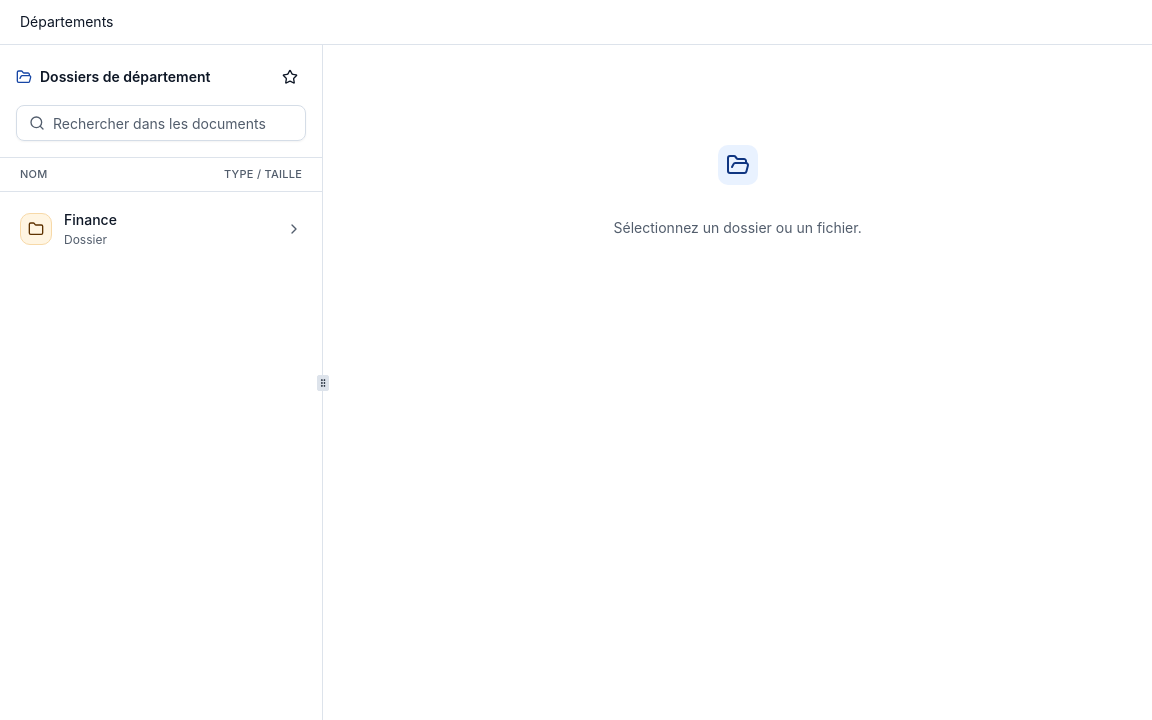
Test: FileWorkspace › navigue dans l'API, pagine et affiche les droits de l'élément sélectionné
This screenshot has width=1152, height=720.
Click the button with aria-label "Ouvrir le dossier Finance" at (36, 228), box [8,200,314,258]
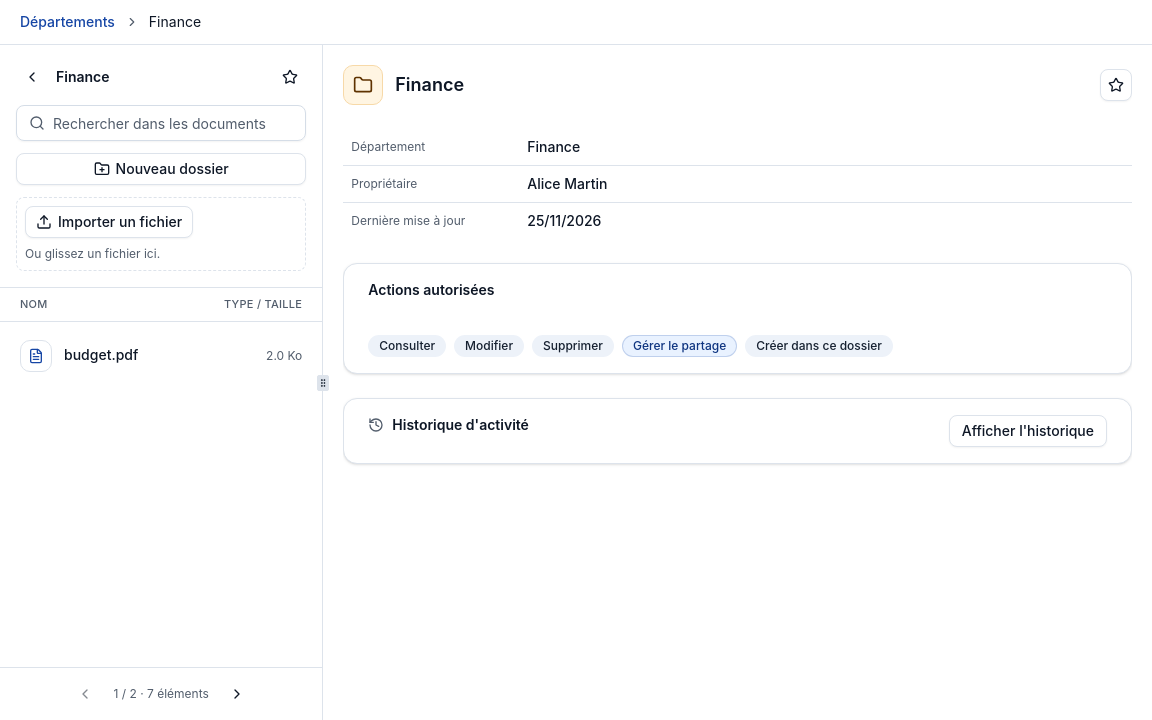
Expected: the text "Gérer le partage" is shown, [622,335,737,357]
Expected: the text "Créer dans ce dossier" is shown, [745,335,893,357]
Click the button with aria-label "Ouvrir le fichier budget.pdf" at (36, 356), box [8,330,314,382]
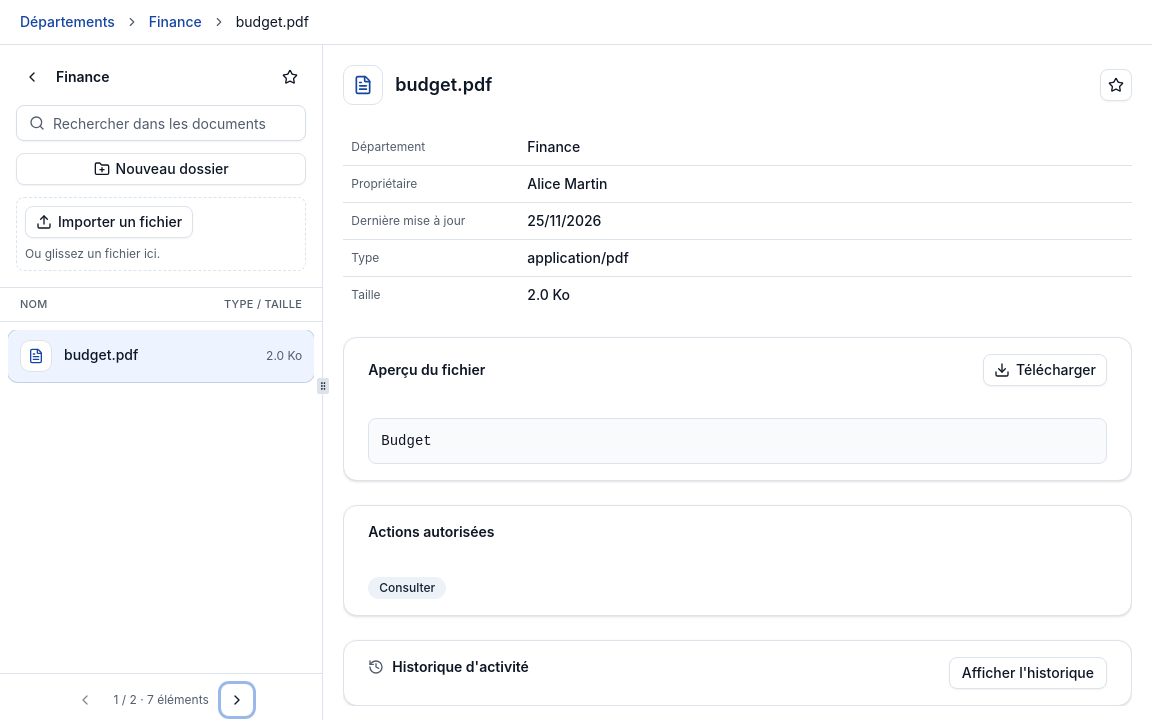
Expected: the text "application/pdf" is shown, [519,240,1132,276]
Expected: the text "Budget" is shown, [368,418,1107,464]
Expected: the text "2.0 Ko" is shown, [519,276,1132,313]
Press Enter
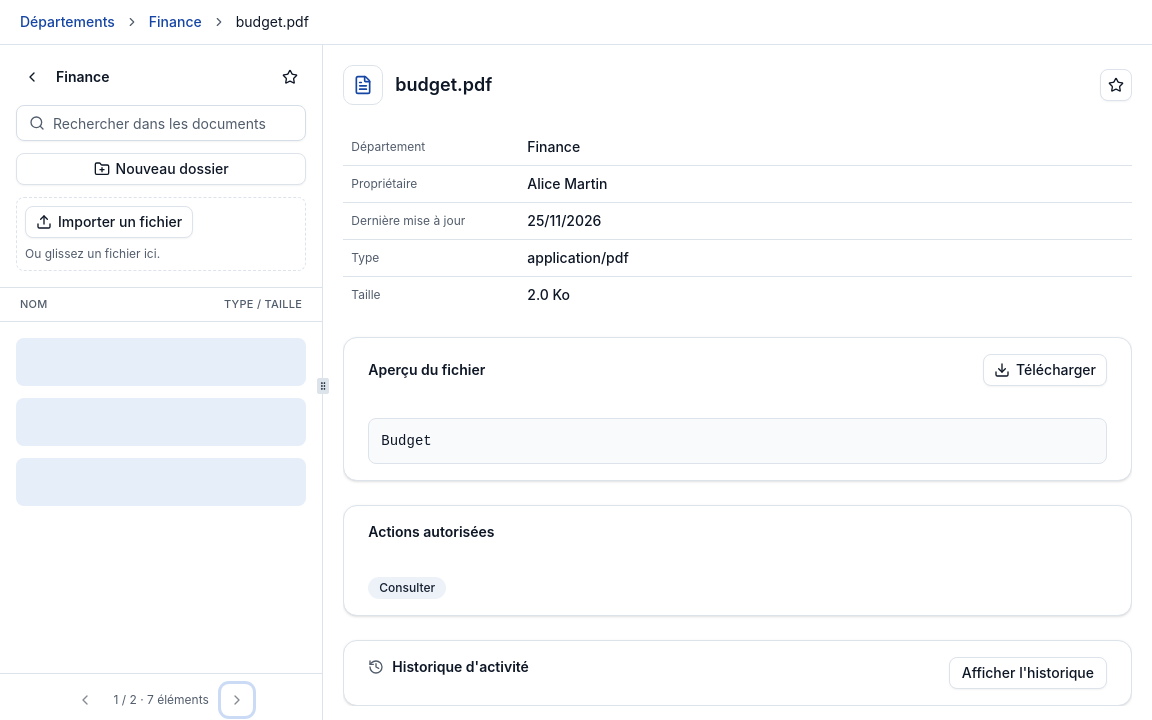
Press Enter
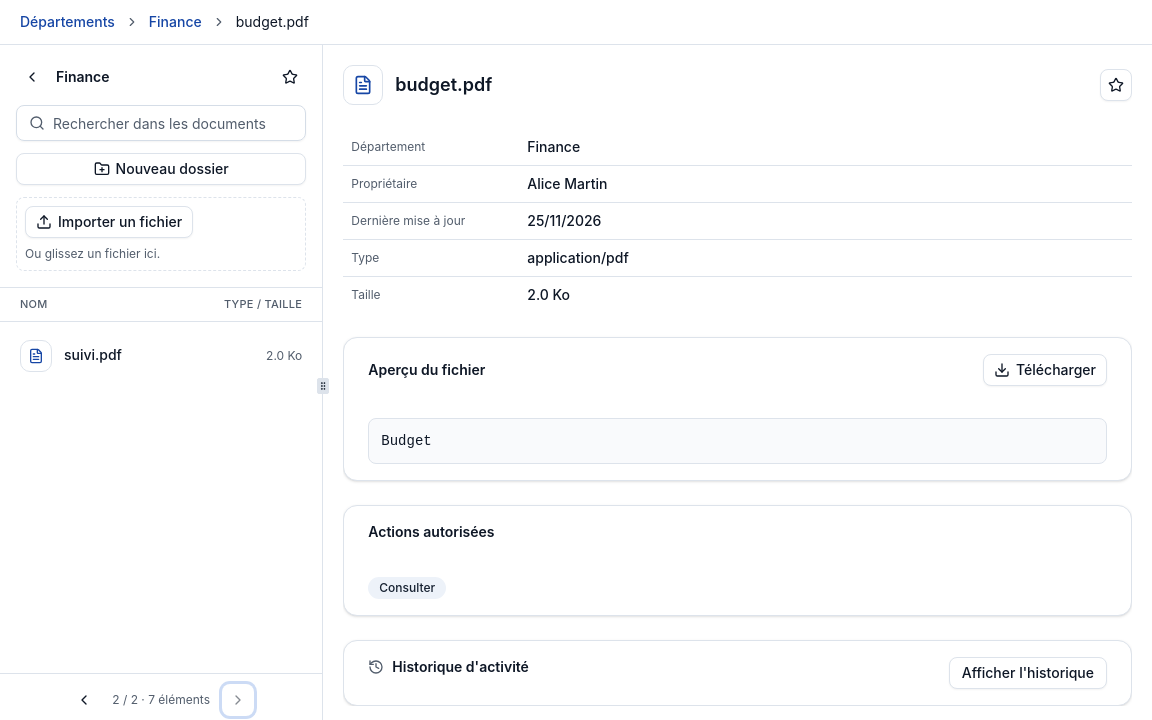
Expected: the button with aria-label "Ouvrir le fichier suivi.pdf" is shown, [8,330,314,382]
Click the button "Finance" at (175, 22), box [149,12,202,32]
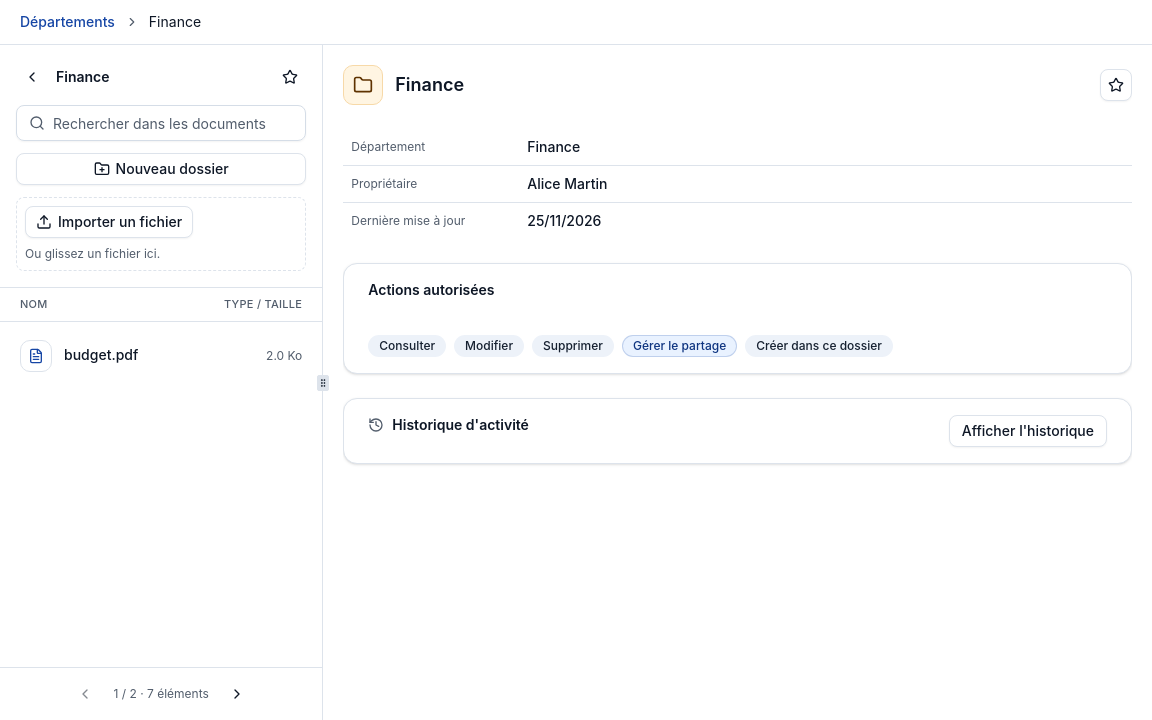
Expected: the button with aria-label "Ouvrir le fichier budget.pdf" is shown, [8,330,314,382]
Click the button "Départements" at (67, 22), box [20,12,115,32]
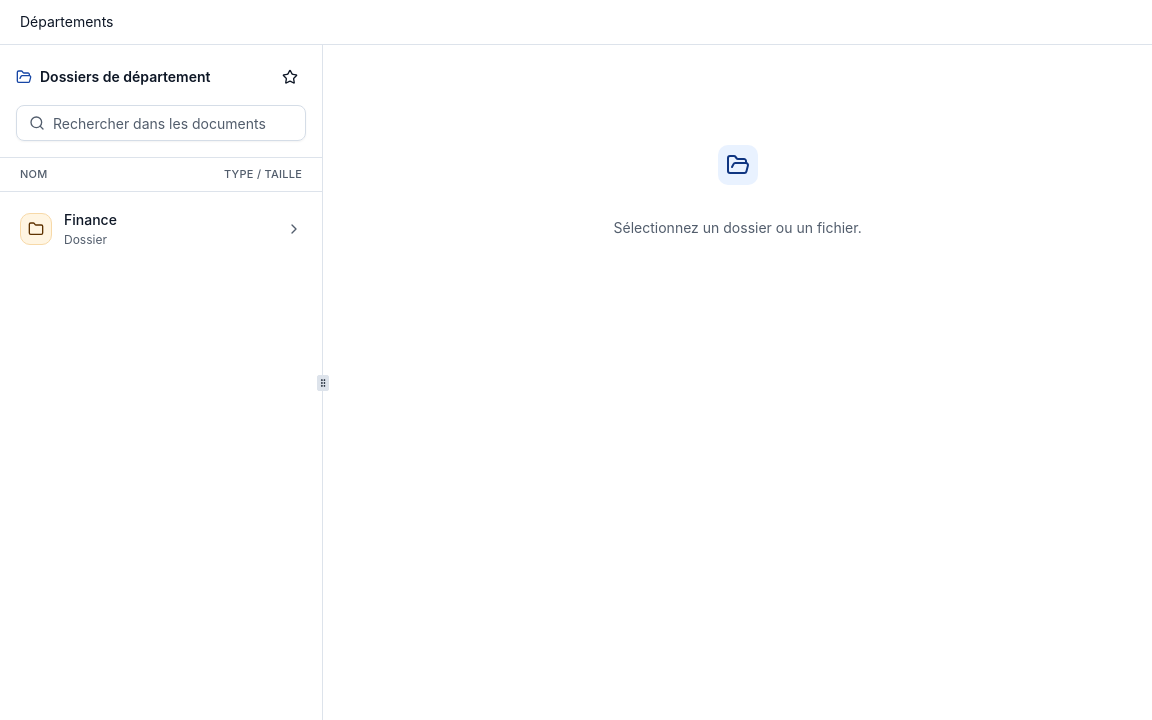
Expected: the button with aria-label "Ouvrir le dossier Finance" is shown, [8,200,314,258]
